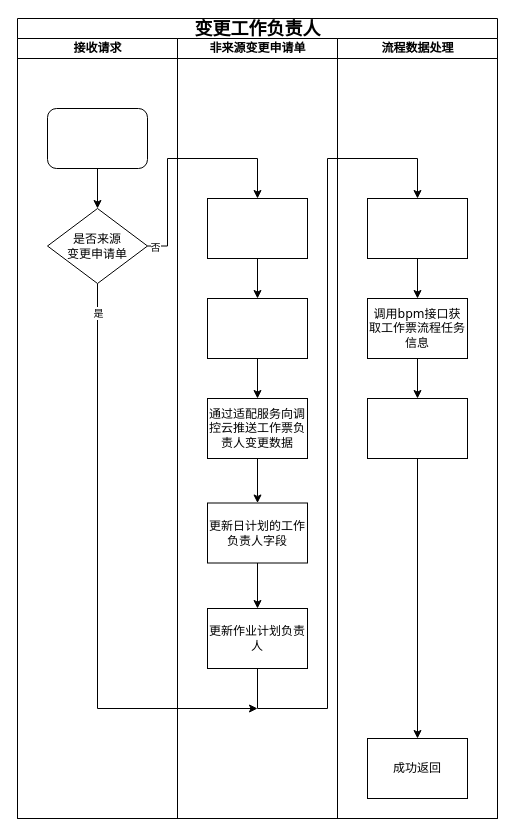
This 515x836 diagram has some shape labels left out. The centre of each missing label's shape, as x and y in pixels:
"开始" belongs at point (97, 138).
"更新工作票主记录" belongs at point (257, 228).
"给原负责人插入一条待办" belongs at point (417, 228).
"调用bpm接口修改代办人移除旧负责人添加新负责人" belongs at point (417, 428).
"通过适配服务向安监发mq消息通知 工作票负责人变更" belongs at point (257, 328).
